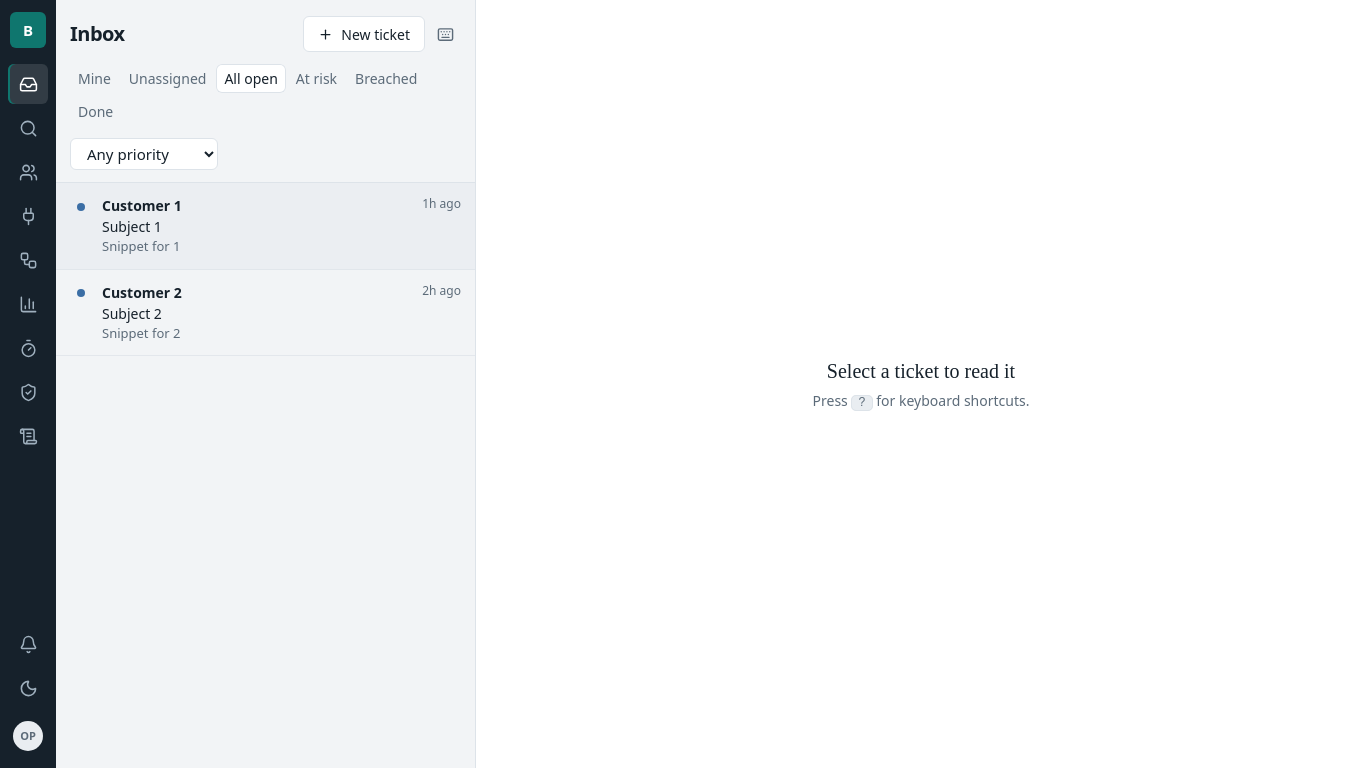
Test: inbox › bulk status posts the exact request and updates the list
The width and height of the screenshot is (1366, 768).
Expected: the text "Subject 1" is shown, [102,217,162,236]
Type keys "x"
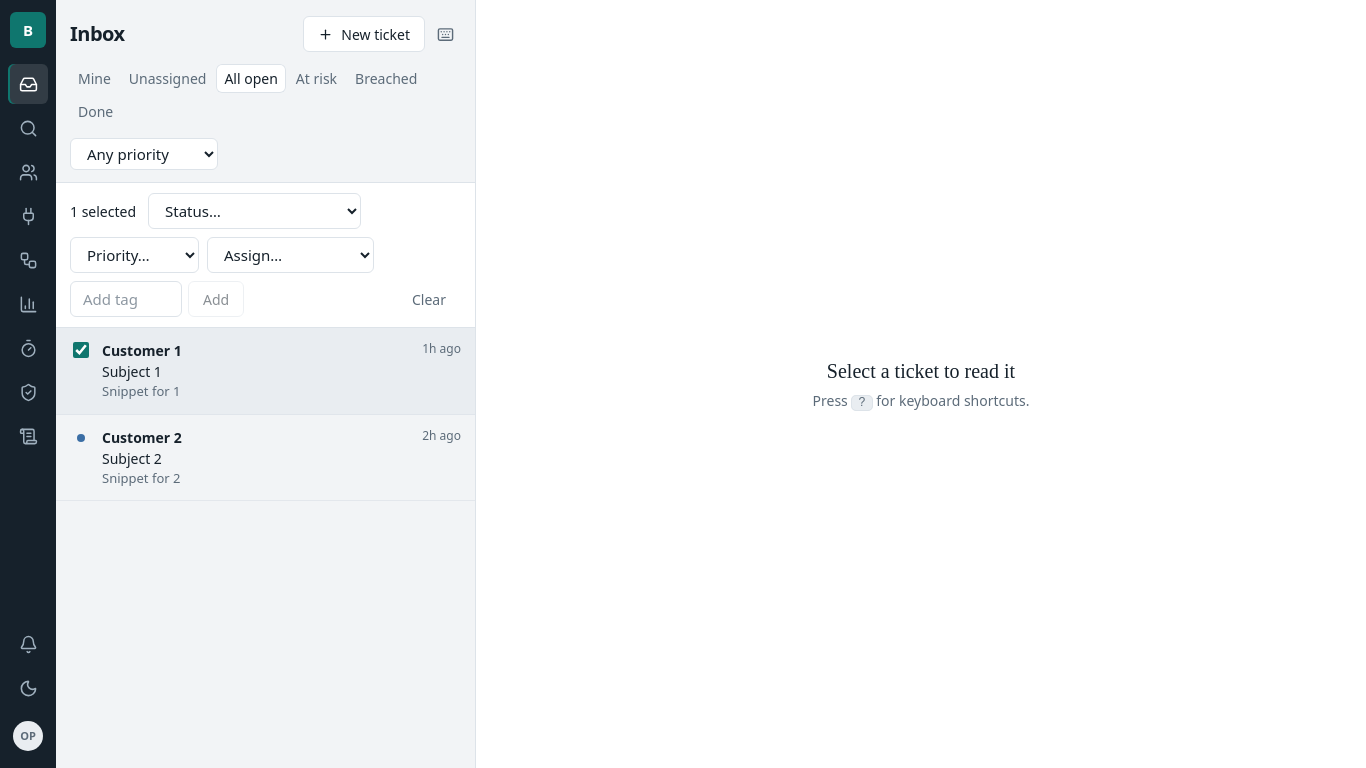
Select "Resolved" in the dropdown named "Set status" at (254, 211), box [148,193,361,229]
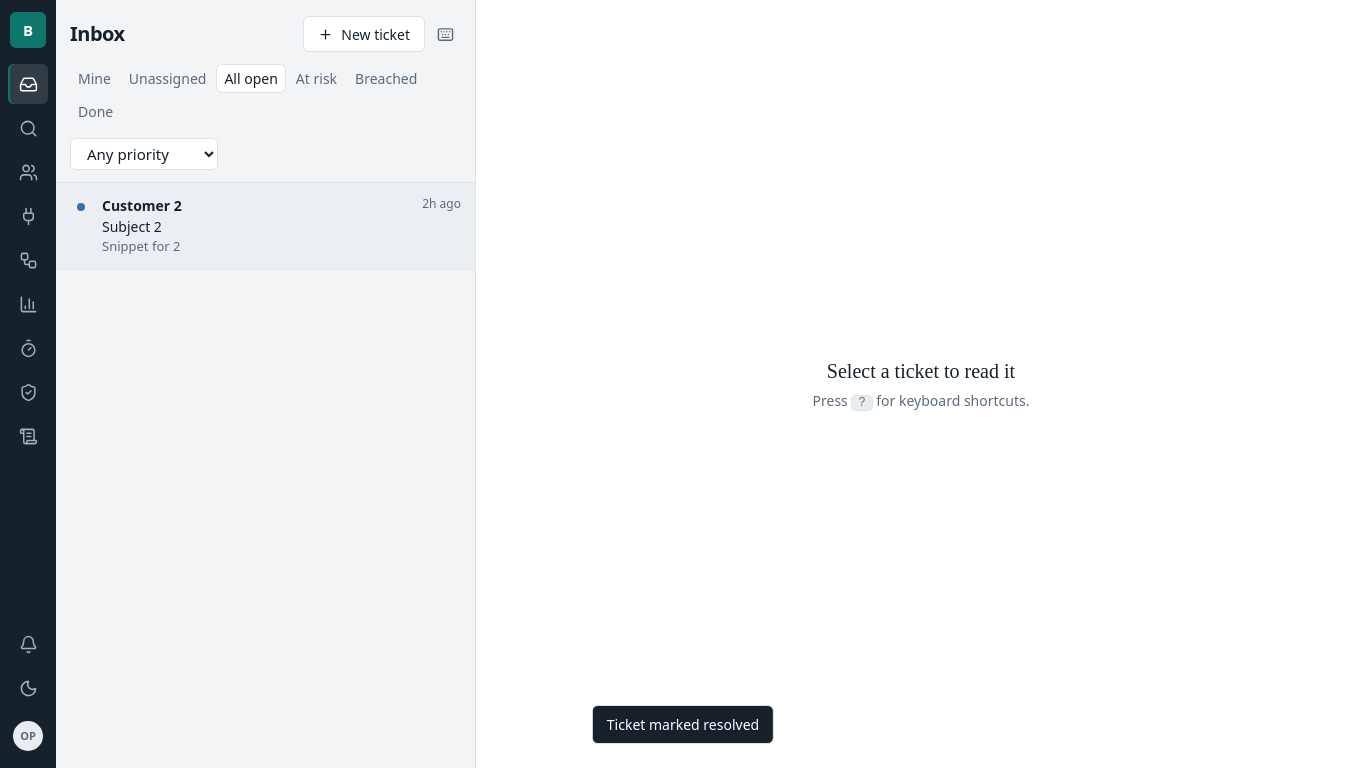
Expected: the text "Subject 2" is shown, [102,217,162,236]
Result: the link "Subject 1" is gone
Result: the text "selected" is gone
